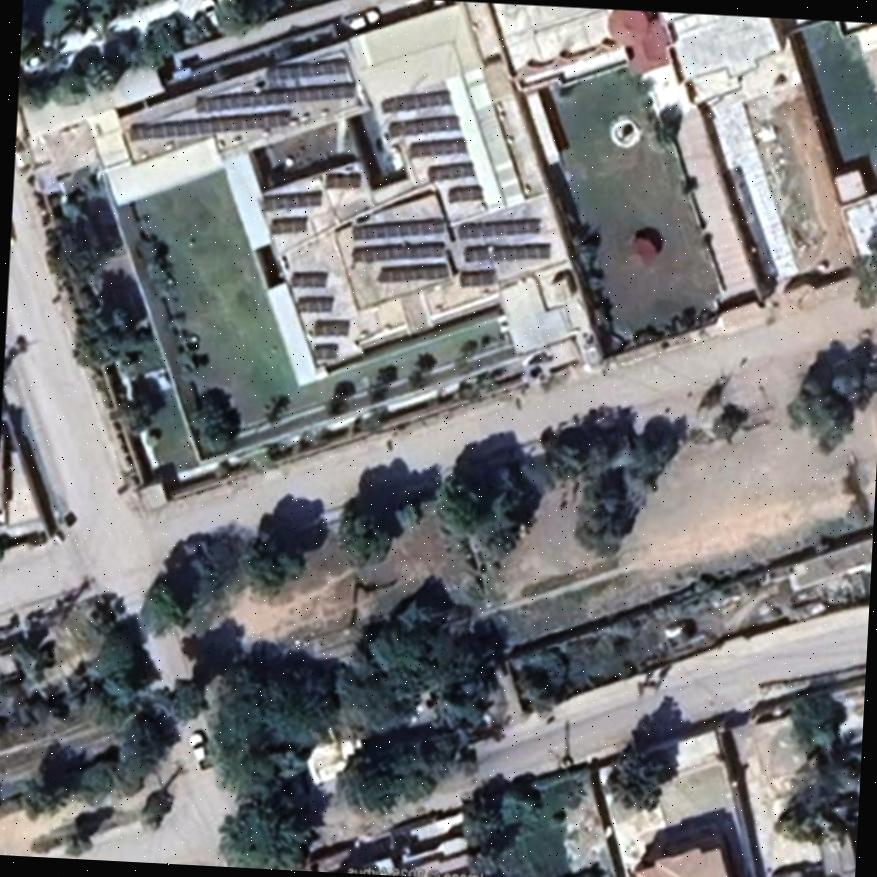Solarpanel: (131, 110, 291, 139), (197, 83, 353, 111), (267, 57, 345, 81), (352, 219, 447, 238), (352, 240, 442, 259), (380, 87, 450, 111), (464, 241, 550, 259), (390, 113, 460, 133), (458, 220, 536, 237), (264, 189, 319, 210), (380, 264, 446, 281), (408, 141, 463, 159), (448, 185, 482, 204), (428, 164, 473, 178), (267, 216, 306, 232), (294, 295, 333, 311), (313, 318, 348, 335), (288, 271, 327, 286), (323, 172, 360, 186), (461, 270, 492, 283), (312, 347, 338, 356)
